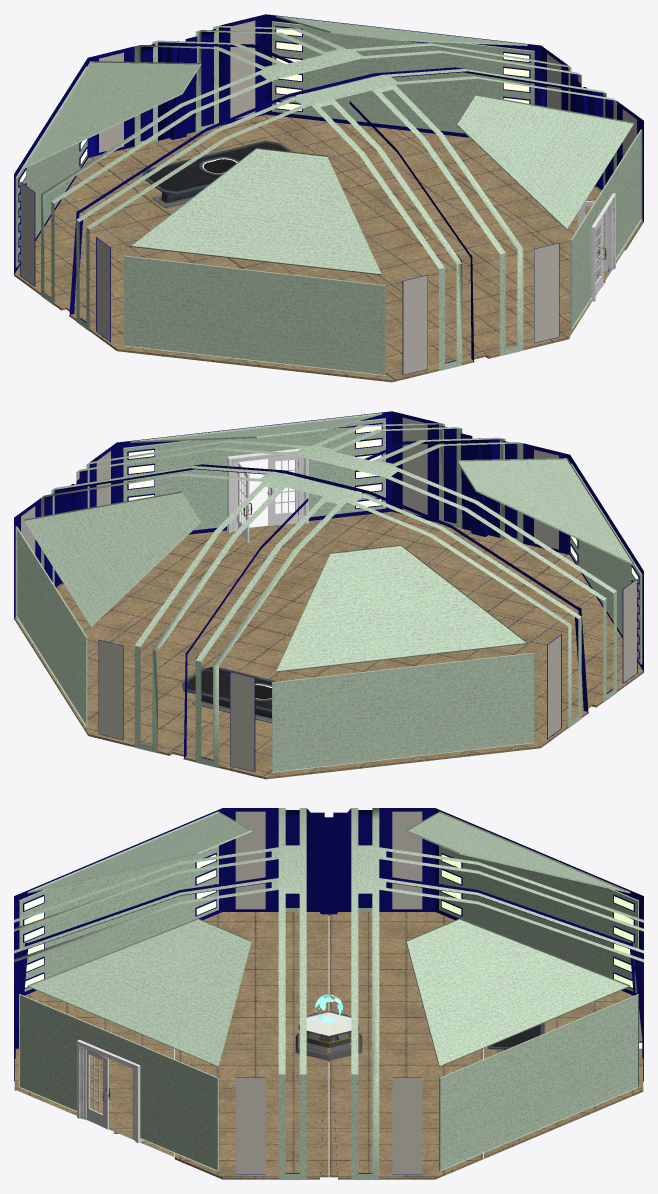
Rendered from Env1.fbx.
3 renders of one model, top to bottom at view 1: azimuth 30°, elevation 25°; view 2: azimuth 150°, elevation 25°; view 3: azimuth 270°, elevation 25°, orthographic. The views are drawn at different scales.
Parts seen in each view (by area): view 1: Material2.002, Material2.008, Material2.007, Material2.004, Material2.003, BigTable__0, Material2.001, Material2.005, Cylinder_2_Mat_0, d_1_2_Mat_0, d_1_1_2_Mat_0; view 2: Material2.002, Material2.008, Material2.007, Material2.004, Material2.003, Material2.001, BigTable__0, Material2.005, Cylinder_2_Mat_0, d_1_1_2_Mat_0, d_1_2_Mat_0; view 3: Material2.002, Material2.008, Material2.007, Material2.004, Material2.001, Material2.003, Material2.005, Table_Table_0, Cylinder_2_Mat_0, d_1_1_2_Mat_0, BigTable__0.
Part boxes in pixels (x1=…): Material2.002: x1=15, y1=16, x2=642, y2=375; Material2.008: x1=14, y1=114, x2=643, y2=382; Material2.007: x1=21, y1=20, x2=636, y2=374; Material2.004: x1=18, y1=14, x2=643, y2=362; Material2.003: x1=14, y1=14, x2=637, y2=375; BigTable__0: x1=142, y1=140, x2=290, y2=207; Material2.001: x1=79, y1=36, x2=603, y2=267; Material2.005: x1=19, y1=27, x2=529, y2=260; Cylinder_2_Mat_0: x1=591, y1=193, x2=615, y2=301; d_1_2_Mat_0: x1=577, y1=201, x2=608, y2=271; d_1_1_2_Mat_0: x1=595, y1=216, x2=606, y2=294; Material2.002: x1=15, y1=413, x2=642, y2=772; Material2.008: x1=14, y1=511, x2=643, y2=779; Material2.007: x1=21, y1=417, x2=636, y2=771; Material2.004: x1=14, y1=411, x2=639, y2=759; Material2.003: x1=20, y1=411, x2=643, y2=772; Material2.001: x1=54, y1=433, x2=578, y2=664; BigTable__0: x1=182, y1=666, x2=277, y2=723; Material2.005: x1=128, y1=424, x2=638, y2=657; Cylinder_2_Mat_0: x1=227, y1=448, x2=308, y2=532; d_1_1_2_Mat_0: x1=267, y1=456, x2=298, y2=525; d_1_2_Mat_0: x1=237, y1=462, x2=252, y2=542; Material2.002: x1=14, y1=808, x2=643, y2=1179; Material2.008: x1=14, y1=912, x2=643, y2=1179; Material2.007: x1=235, y1=811, x2=422, y2=1174; Material2.004: x1=15, y1=808, x2=635, y2=1173; Material2.001: x1=14, y1=808, x2=643, y2=1037; Material2.003: x1=14, y1=808, x2=643, y2=1174; Material2.005: x1=24, y1=854, x2=633, y2=987; Table_Table_0: x1=295, y1=1011, x2=362, y2=1062; Cylinder_2_Mat_0: x1=77, y1=1039, x2=143, y2=1142; d_1_1_2_Mat_0: x1=86, y1=1049, x2=110, y2=1129; BigTable__0: x1=485, y1=1023, x2=544, y2=1053.
Bounding box in the file's own units: 2189 × 684 × 2189.
11 materials, 6 textured.
